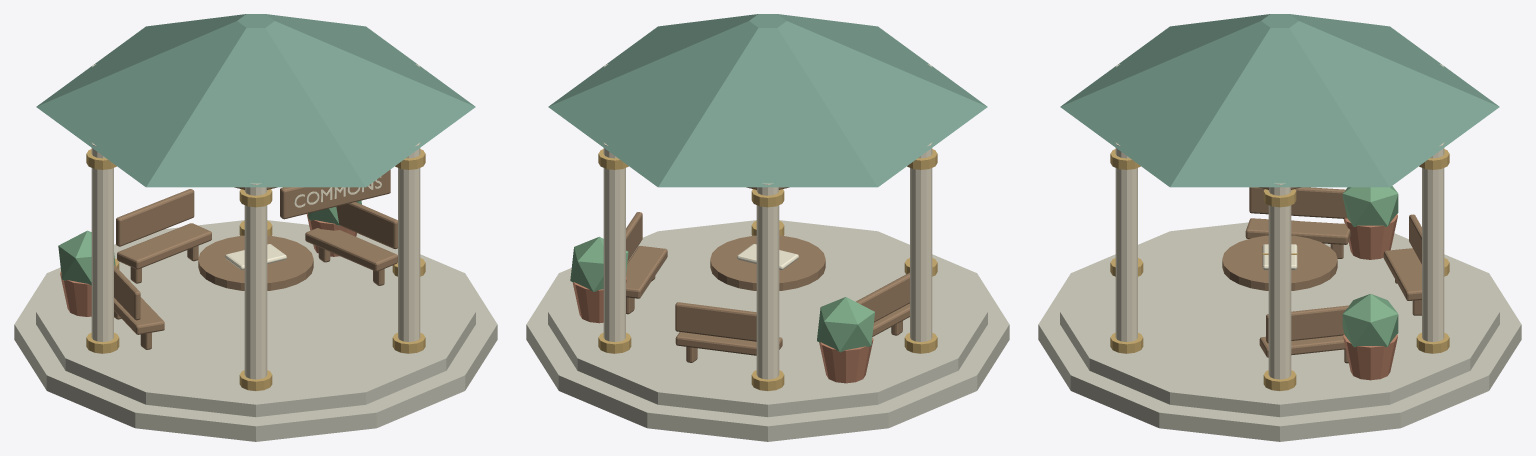
File: commons-pavilion.glb
3 views of the same model, side by side, from view 1: azimuth 30°, elevation 25°; view 2: azimuth 150°, elevation 25°; view 3: azimuth 270°, elevation 25° (orthographic).
Visible parts, largest first — view 1: HERO_sage_canopy, ENV_upper_step, ENV_pavilion_plinth, STRUCT_column_4, STRUCT_column_3, STRUCT_column_5, PRP_meeting_table, PRP_bench_back_1, PRP_commons_sign, PRP_bench_seat_1, PRP_bench_seat_0, PRP_bench_back_0 (+9 smaller); view 2: HERO_sage_canopy, ENV_upper_step, ENV_pavilion_plinth, STRUCT_column_2, STRUCT_column_1, STRUCT_column_3, PRP_meeting_table, PRP_low_foliage, PRP_bench_back_1, PRP_planter, PRP_low_foliage.001, PRP_bench_seat_0 (+9 smaller); view 3: HERO_sage_canopy, ENV_upper_step, ENV_pavilion_plinth, STRUCT_column_0, STRUCT_column_1, STRUCT_column_5, PRP_meeting_table, PRP_low_foliage.001, PRP_low_foliage, PRP_bench_back_2, PRP_bench_back_0, PRP_planter.001 (+8 smaller).
Boxes of the visible parts, left/top/right/bottom form: HERO_sage_canopy: left=36, top=14, right=475, bottom=187; ENV_upper_step: left=36, top=220, right=475, bottom=417; ENV_pavilion_plinth: left=14, top=265, right=497, bottom=441; STRUCT_column_4: left=244, top=183, right=267, bottom=391; STRUCT_column_3: left=91, top=143, right=113, bottom=353; STRUCT_column_5: left=398, top=143, right=420, bottom=353; PRP_meeting_table: left=198, top=235, right=313, bottom=290; PRP_bench_back_1: left=116, top=189, right=194, bottom=246; PRP_commons_sign: left=280, top=169, right=390, bottom=219; PRP_bench_seat_1: left=117, top=223, right=211, bottom=269; PRP_bench_seat_0: left=305, top=228, right=397, bottom=271; PRP_bench_back_0: left=336, top=202, right=397, bottom=249; HERO_sage_canopy: left=548, top=14, right=987, bottom=187; ENV_upper_step: left=548, top=220, right=987, bottom=417; ENV_pavilion_plinth: left=526, top=265, right=1009, bottom=441; STRUCT_column_2: left=756, top=183, right=779, bottom=391; STRUCT_column_1: left=603, top=143, right=625, bottom=353; STRUCT_column_3: left=910, top=143, right=932, bottom=353; PRP_meeting_table: left=710, top=235, right=825, bottom=290; PRP_low_foliage: left=817, top=297, right=874, bottom=352; PRP_bench_back_1: left=675, top=302, right=756, bottom=341; PRP_planter: left=819, top=337, right=873, bottom=383; PRP_low_foliage.001: left=570, top=236, right=628, bottom=291; PRP_bench_seat_0: left=626, top=246, right=667, bottom=298; HERO_sage_canopy: left=1060, top=14, right=1499, bottom=187; ENV_upper_step: left=1060, top=220, right=1499, bottom=417; ENV_pavilion_plinth: left=1038, top=265, right=1521, bottom=441; STRUCT_column_0: left=1268, top=183, right=1291, bottom=391; STRUCT_column_1: left=1422, top=143, right=1444, bottom=353; STRUCT_column_5: left=1115, top=143, right=1137, bottom=353; PRP_meeting_table: left=1222, top=235, right=1337, bottom=290; PRP_low_foliage.001: left=1342, top=294, right=1398, bottom=347; PRP_low_foliage: left=1342, top=186, right=1398, bottom=226; PRP_bench_back_2: left=1249, top=187, right=1347, bottom=218; PRP_bench_back_0: left=1266, top=305, right=1349, bottom=343; PRP_planter.001: left=1343, top=334, right=1397, bottom=380.
Bounding box in the file's own units: 5.6 × 4.08 × 5.6.
